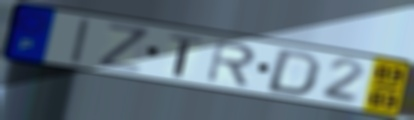2: (320, 56, 368, 107)
D: (262, 48, 325, 98)
I: (68, 17, 92, 67)
R: (205, 39, 259, 89)
T: (167, 32, 205, 79)
Z: (97, 21, 151, 75)
